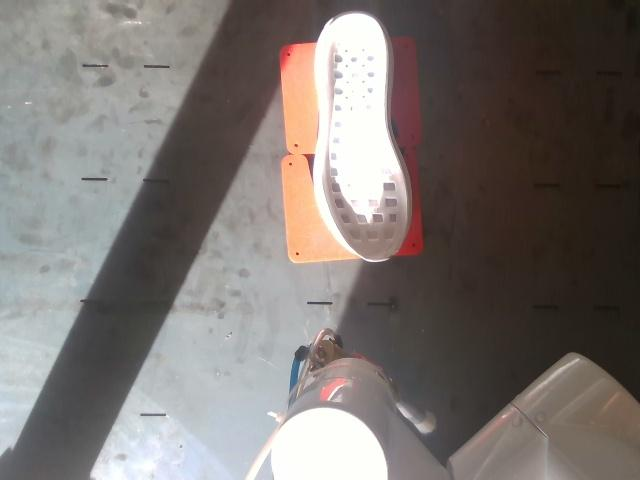shoes: (323, 13, 407, 260)
